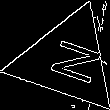N_W: (34, 33, 99, 88)
